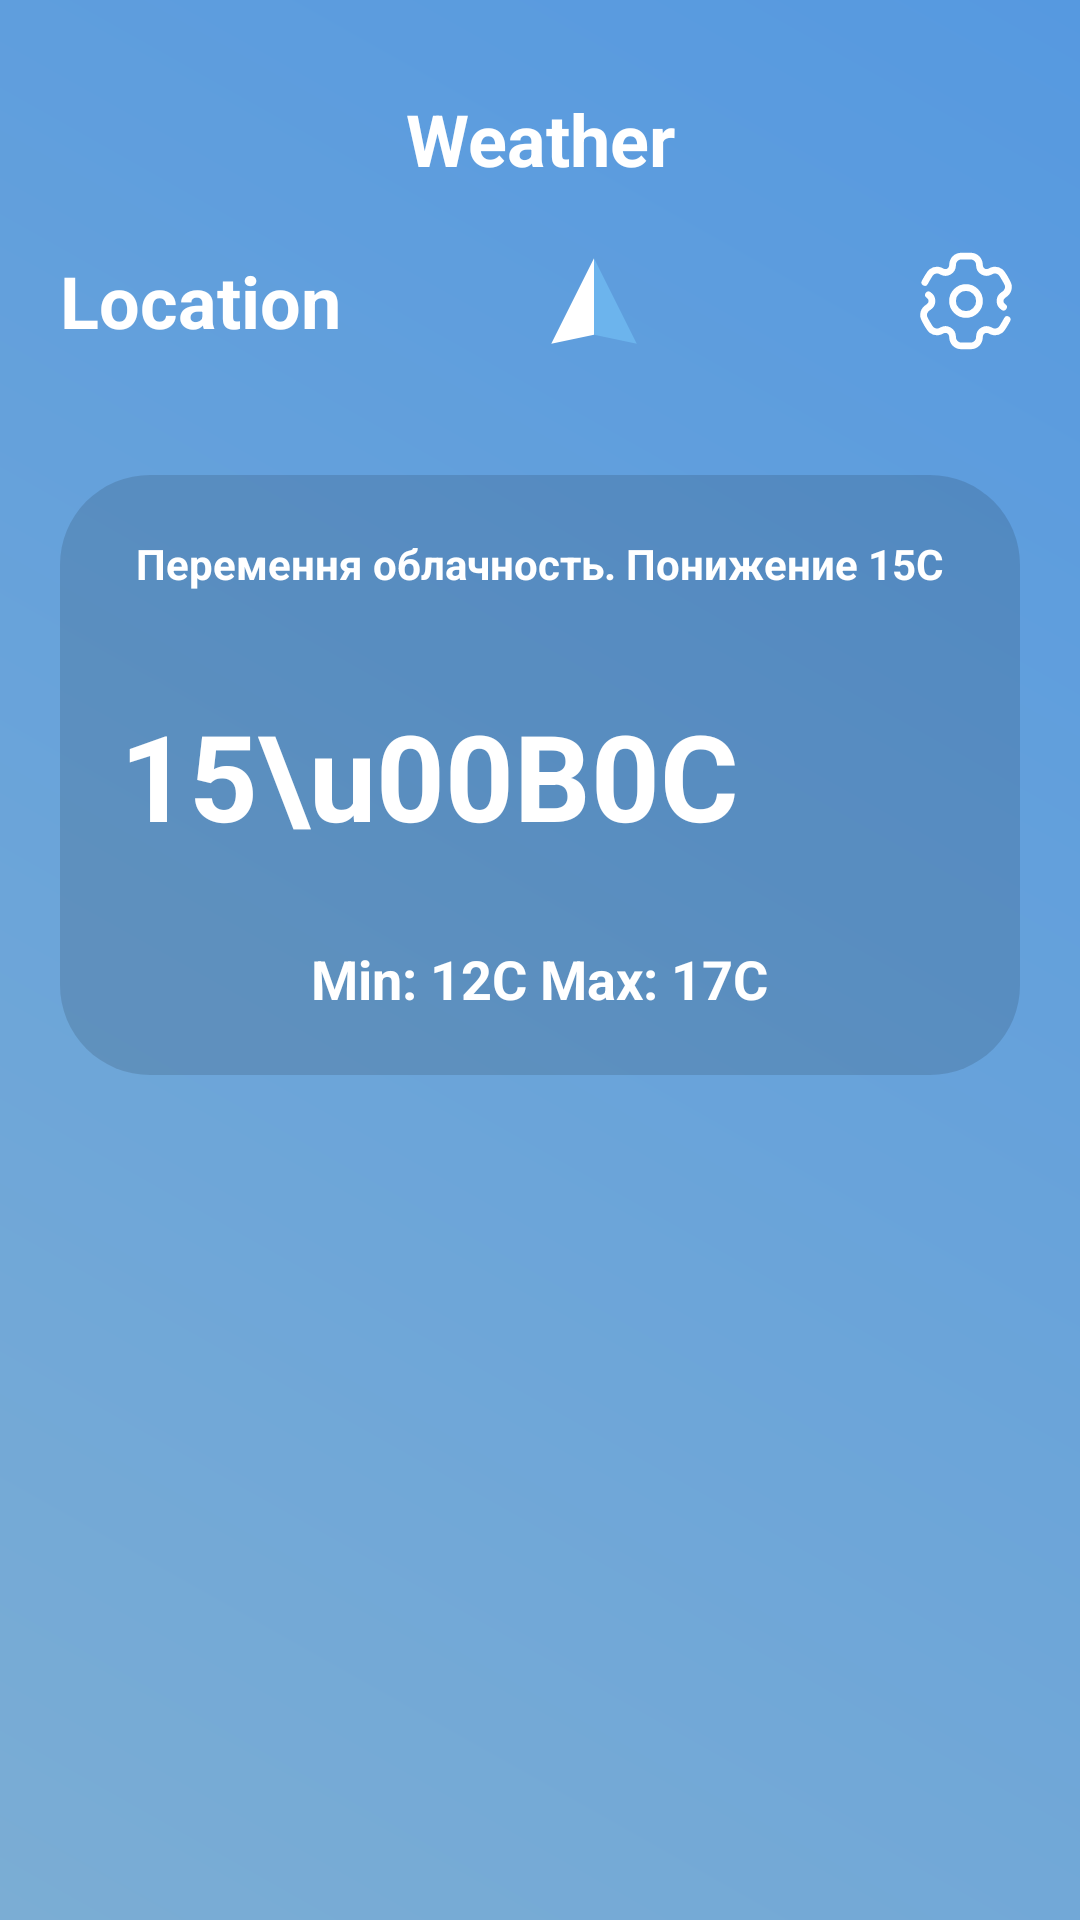

Icons on this 1080x1920 Android screen, each with the point to tap as [x,y]:
settings: [966,301]
